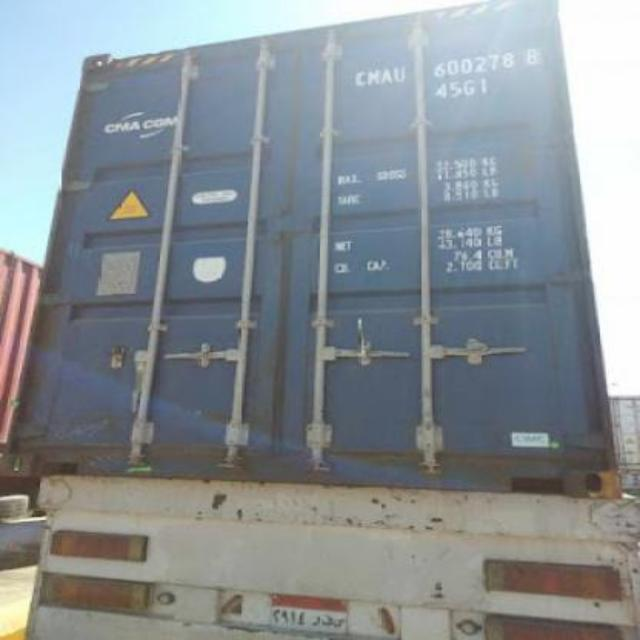0: (446, 57, 462, 77), (461, 56, 474, 76)
2: (472, 54, 486, 74)
6: (432, 58, 446, 78)
7: (486, 52, 502, 72)
8: (526, 46, 540, 66), (501, 50, 514, 70)
A: (382, 65, 392, 85)
C: (352, 69, 366, 87)
M: (364, 69, 384, 85)
U: (390, 64, 406, 86)
